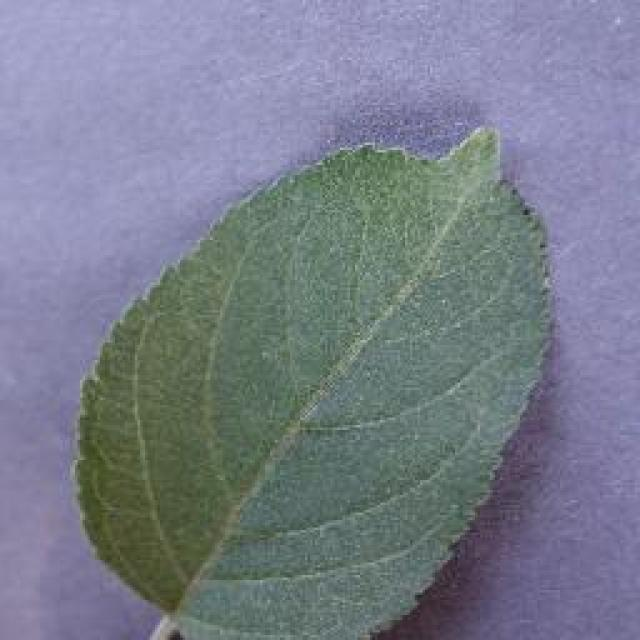apple healthy: (68, 120, 558, 638)
